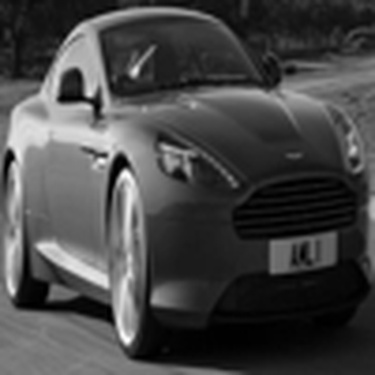car: (1, 6, 370, 368)
